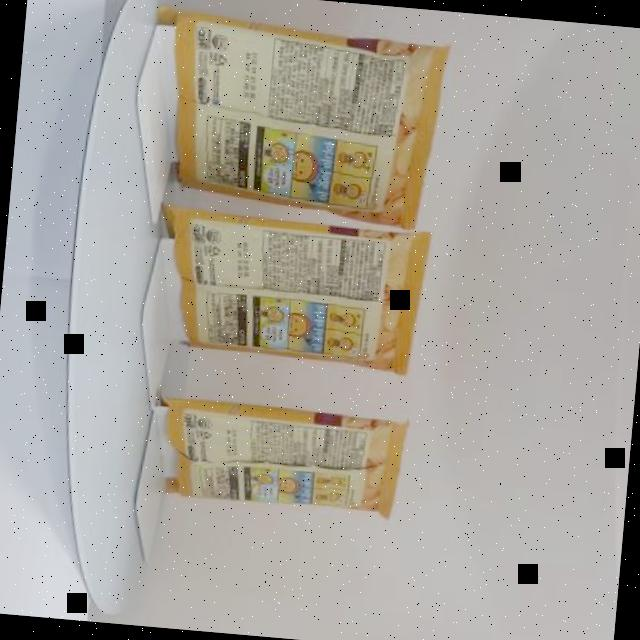snack_bag: (107, 0, 452, 534)
